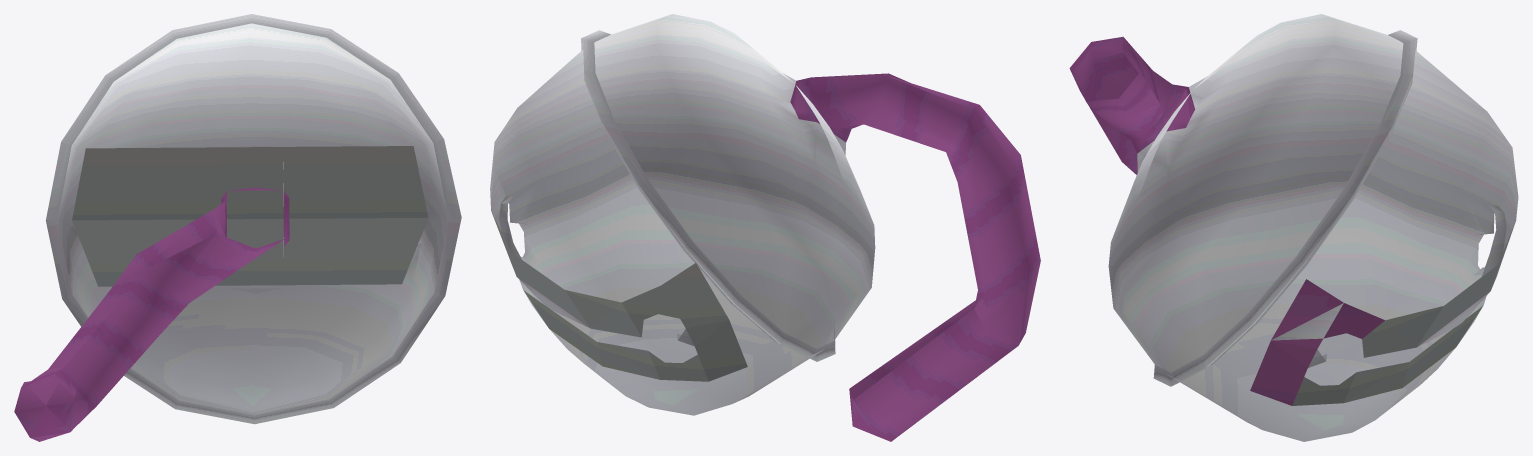
Rendered from ps2_save-icons_never7-revisionrelease.glb.
3 views of the same model, side by side, from view 1: azimuth 30°, elevation 25°; view 2: azimuth 150°, elevation 25°; view 3: azimuth 270°, elevation 25° (orthographic). The views are drawn at different scales.
Visible parts, largest first — view 1: cube.ico; view 2: cube.ico; view 3: cube.ico.
Boxes of the visible parts, x1,y1,x2,y2 form: cube.ico: [14, 14, 461, 441]; cube.ico: [490, 14, 1040, 441]; cube.ico: [1069, 14, 1518, 441].
Size of the model in its own units: 4.79 by 3.61 by 3.8.
1 material, 1 textured.
